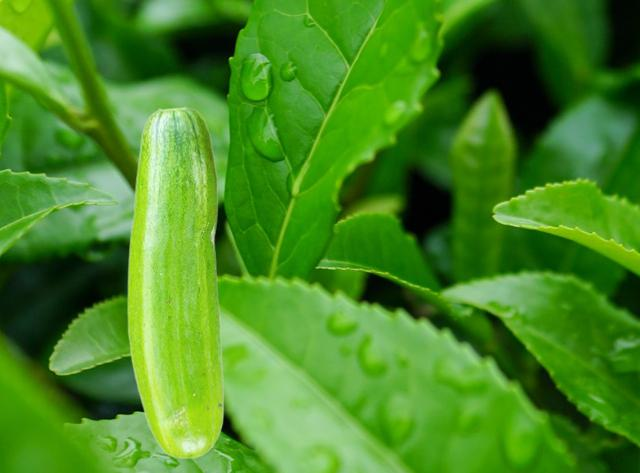cucumber: (127, 106, 223, 458)
